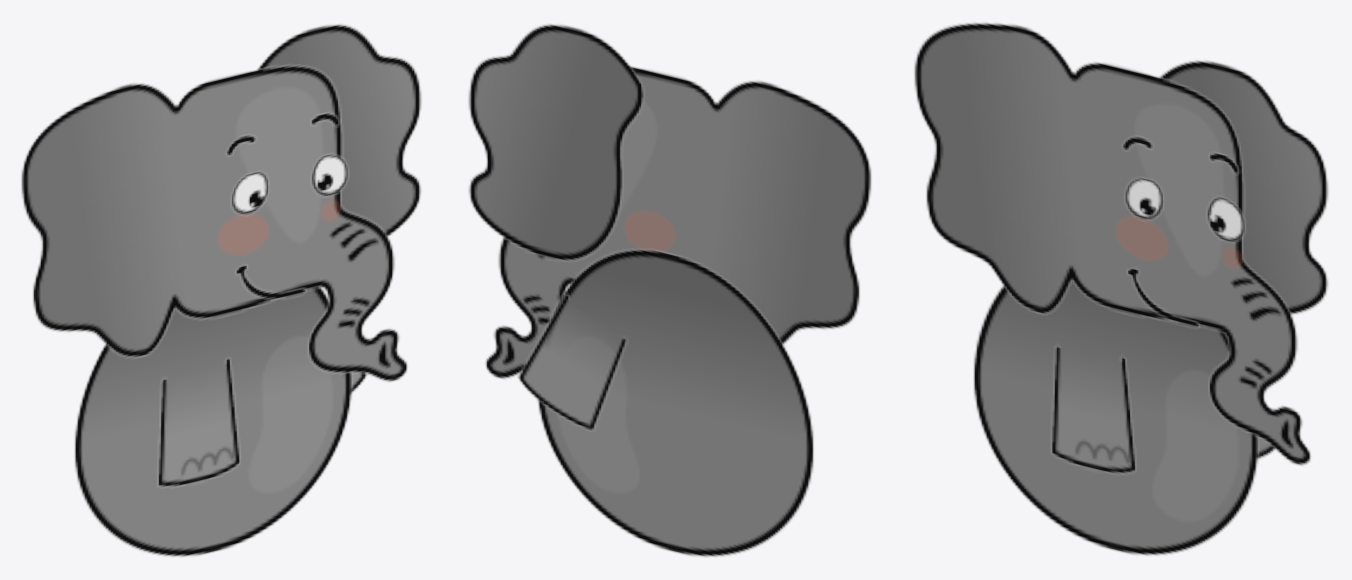
The model's file is elefant.glb.
3 renders of one model, left to right at view 1: azimuth 30°, elevation 25°; view 2: azimuth 150°, elevation 25°; view 3: azimuth 330°, elevation 25°, orthographic. The views are drawn at different scales.
Parts seen in each view (by area): view 1: elefant_head, elefant_belly, elefant_ear_l, elefant_arm_r, elefant_eyes, elefant_mouth_smiling, elefant_eyebrows, elefant_eyes_pupils; view 2: elefant_belly, elefant_head, elefant_ear_l, elefant_arm_l; view 3: elefant_head, elefant_belly, elefant_ear_l, elefant_arm_r, elefant_eyes, elefant_mouth_smiling, elefant_eyebrows, elefant_eyes_pupils.
Boxes of the visible parts, bbox=[...] form: elefant_head: bbox=[21, 64, 407, 382]; elefant_belly: bbox=[74, 286, 352, 557]; elefant_ear_l: bbox=[257, 23, 422, 236]; elefant_arm_r: bbox=[157, 357, 240, 487]; elefant_eyes: bbox=[230, 153, 348, 215]; elefant_mouth_smiling: bbox=[235, 264, 306, 300]; elefant_eyebrows: bbox=[226, 112, 340, 156]; elefant_eyes_pupils: bbox=[248, 172, 333, 208]; elefant_belly: bbox=[537, 248, 813, 557]; elefant_head: bbox=[485, 66, 871, 379]; elefant_ear_l: bbox=[468, 23, 644, 261]; elefant_arm_l: bbox=[517, 293, 627, 431]; elefant_head: bbox=[914, 22, 1310, 465]; elefant_belly: bbox=[973, 278, 1258, 556]; elefant_ear_l: bbox=[1159, 60, 1328, 315]; elefant_arm_r: bbox=[1051, 345, 1136, 474]; elefant_eyes: bbox=[1124, 177, 1245, 243]; elefant_mouth_smiling: bbox=[1127, 267, 1199, 328]; elefant_eyebrows: bbox=[1122, 135, 1239, 175]; elefant_eyes_pupils: bbox=[1138, 196, 1226, 234].
Size of the model in its own units: 0.8652 by 1.02 by 0.0286.
1 material, 1 textured.
